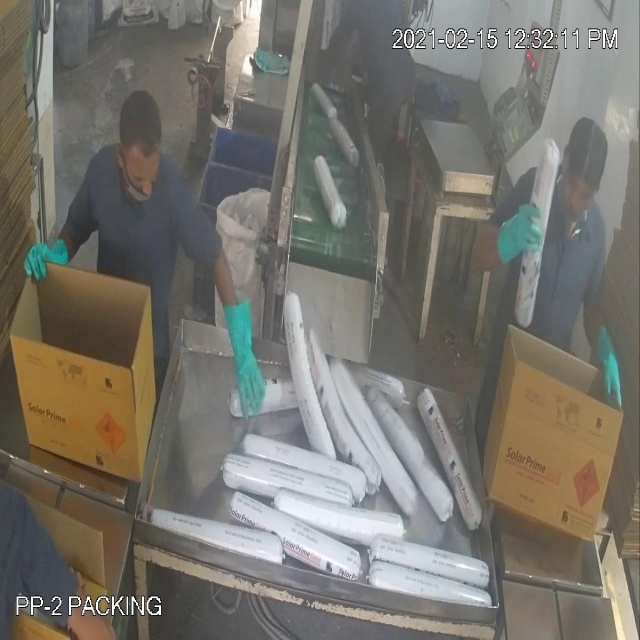Guantes: (214, 284, 272, 418), (15, 216, 80, 308), (485, 204, 548, 273), (592, 320, 624, 414)
